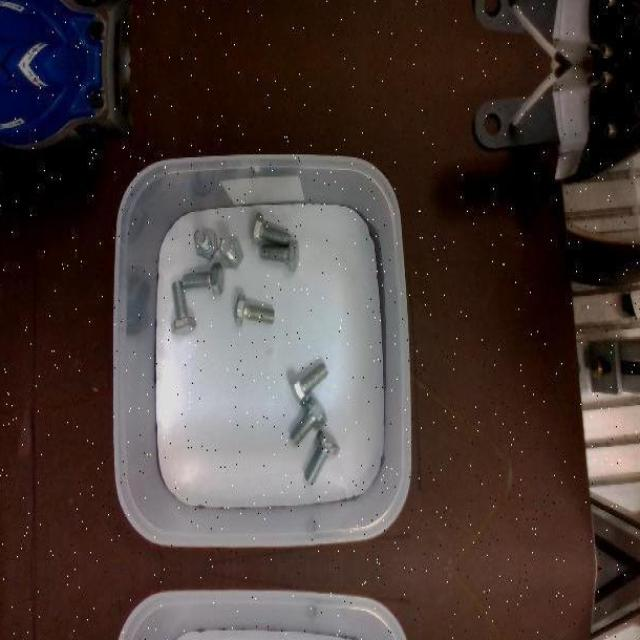screw: (305, 430, 341, 485), (290, 395, 328, 446), (290, 362, 330, 407), (182, 261, 225, 295), (171, 280, 197, 335), (252, 211, 290, 246), (260, 239, 299, 273), (236, 292, 275, 325), (220, 236, 244, 270), (194, 228, 219, 260)
